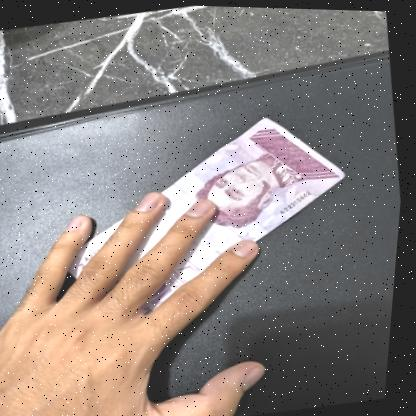one_hundred-front-vef: (48, 98, 370, 331)
